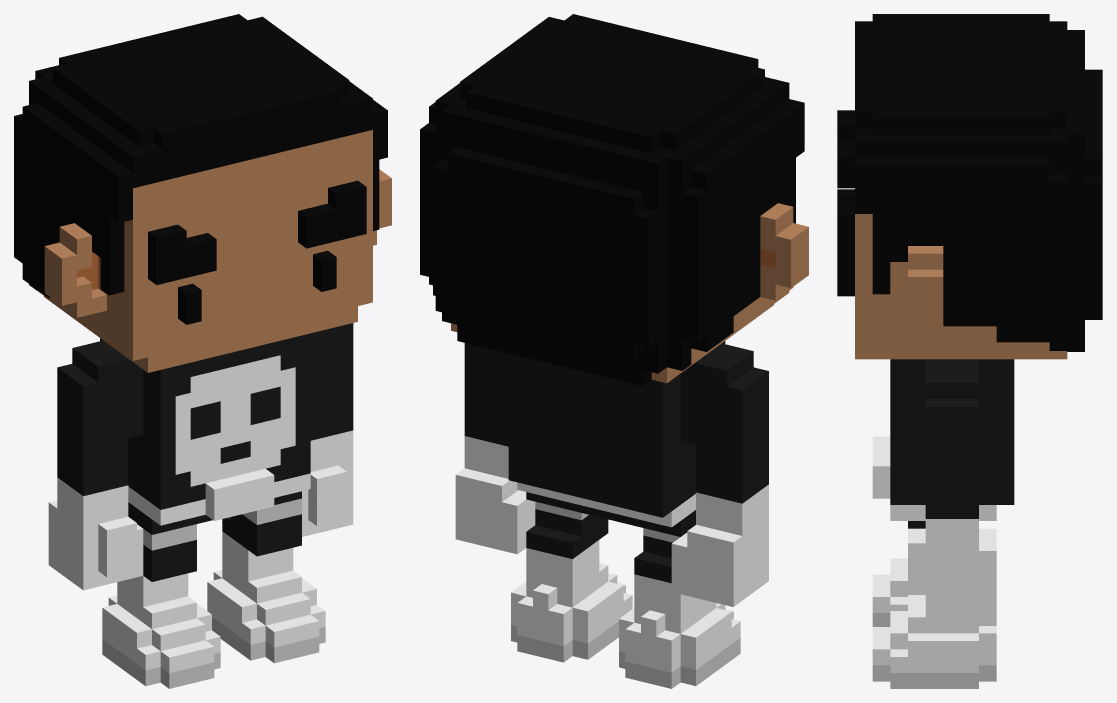
The model's file is asset.glb.
3 renders of one model, left to right at view 1: azimuth 30°, elevation 25°; view 2: azimuth 150°, elevation 25°; view 3: azimuth 270°, elevation 25°, orthographic. The views are drawn at different scales.
Visible parts, largest first — view 1: Cube.2199; view 2: Cube.2199; view 3: Cube.2199.
Part boxes in pixels (left/top/right/bottom): Cube.2199: left=14, top=14, right=391, bottom=688; Cube.2199: left=420, top=14, right=808, bottom=688; Cube.2199: left=837, top=14, right=1102, bottom=688.
Bounding box in the file's own units: 22 × 36 × 15.
